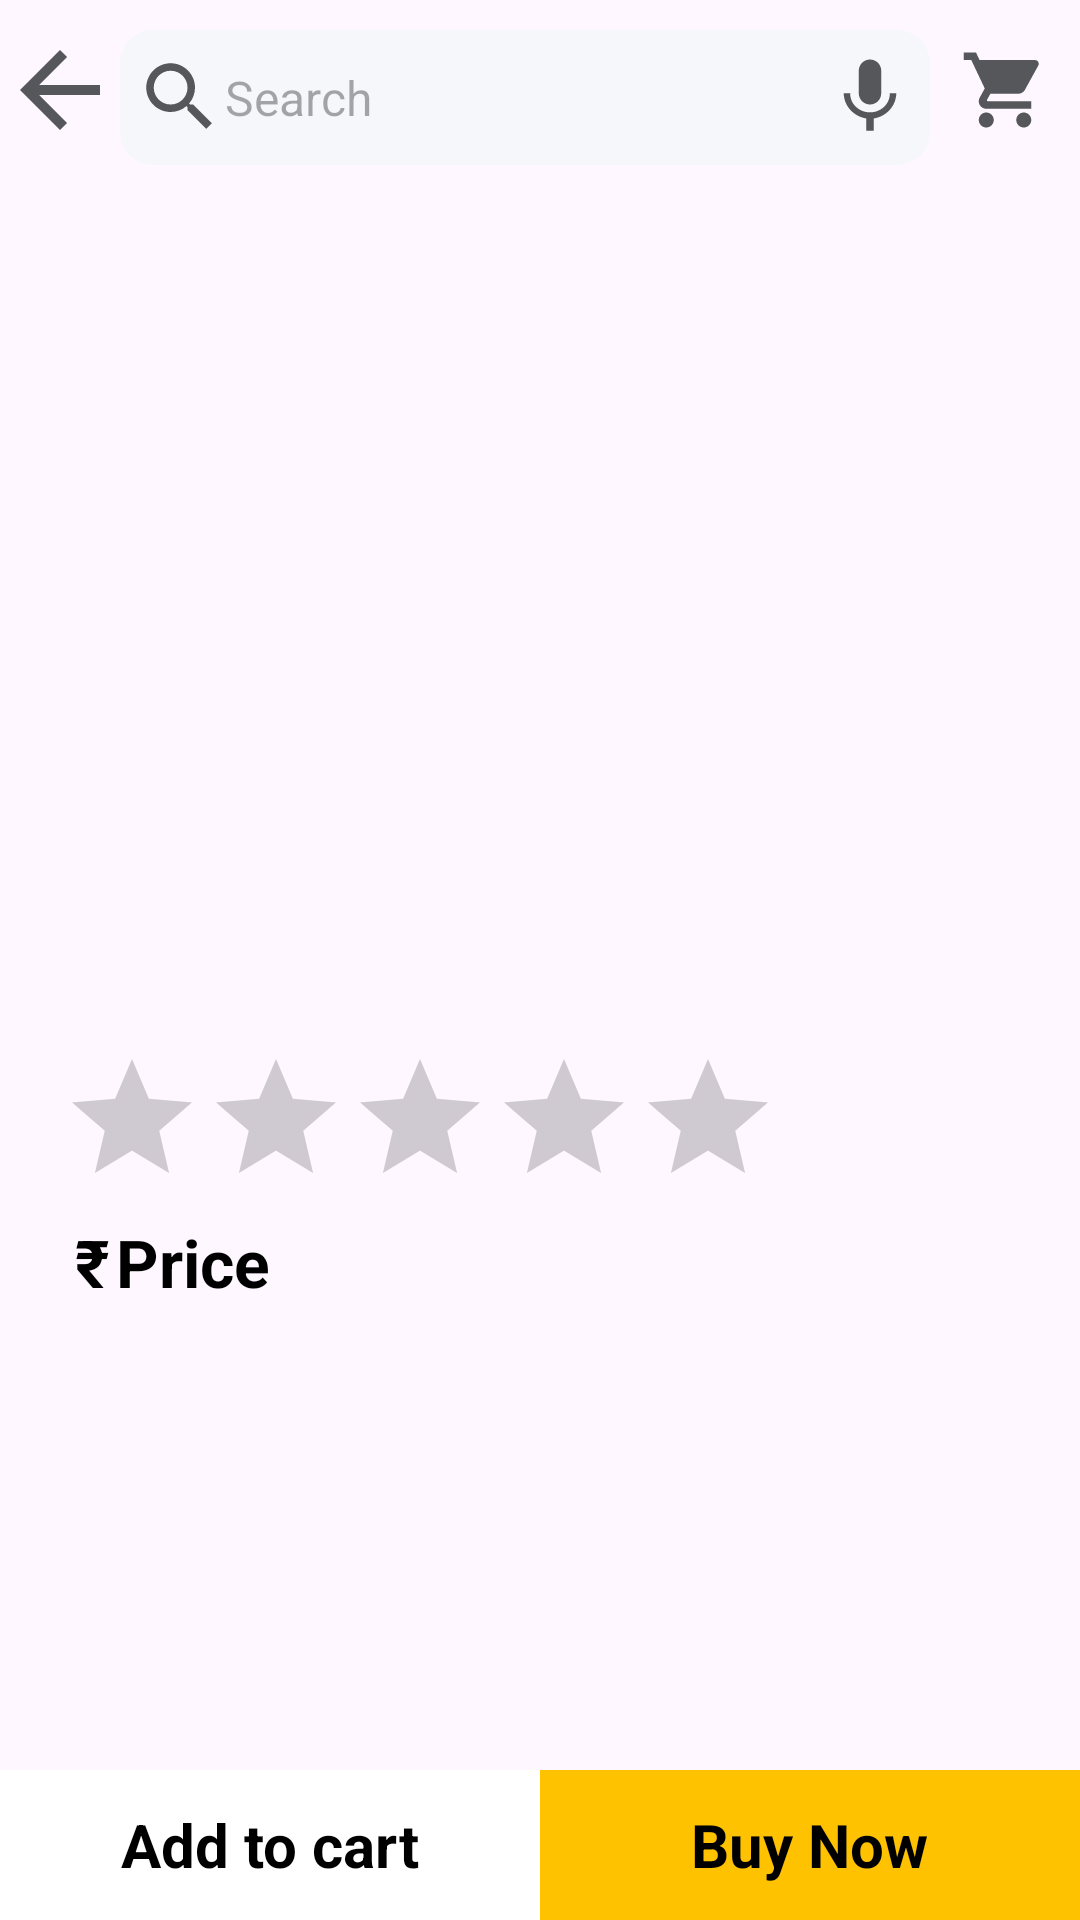

Icons on this 1080px x 1920px Android screen, each with its box as {"left": x1, "top": y1, "right": x2, "bottom": y2}:
arrow back: {"left": 20, "top": 50, "right": 100, "bottom": 130}
mic: {"left": 843, "top": 59, "right": 897, "bottom": 131}
shopping cart: {"left": 963, "top": 52, "right": 1039, "bottom": 128}
